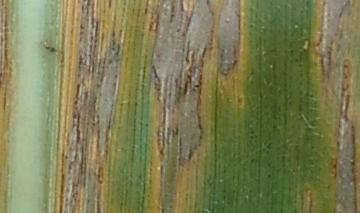tarspot: (43, 44, 59, 53), (142, 122, 150, 129)
